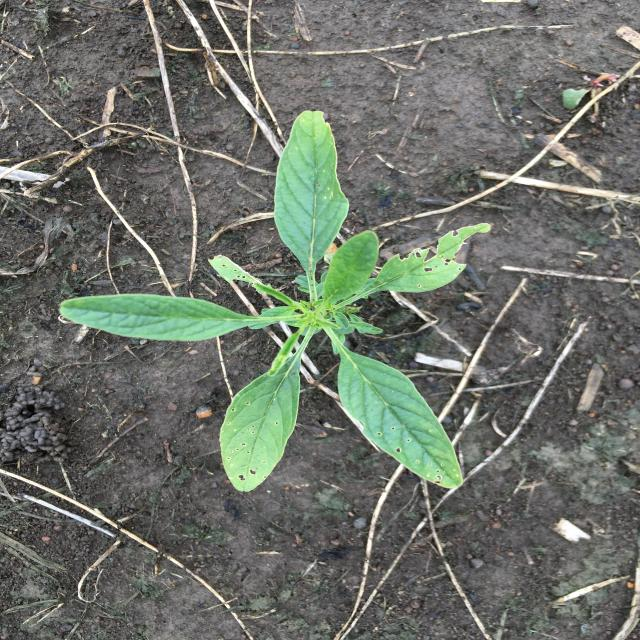Waterhemp: (60, 110, 492, 492)
